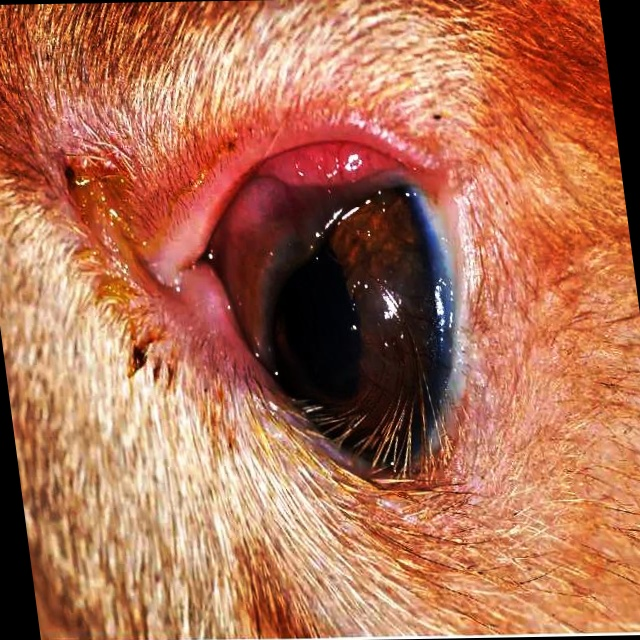eye_infection: (156, 110, 500, 495)
